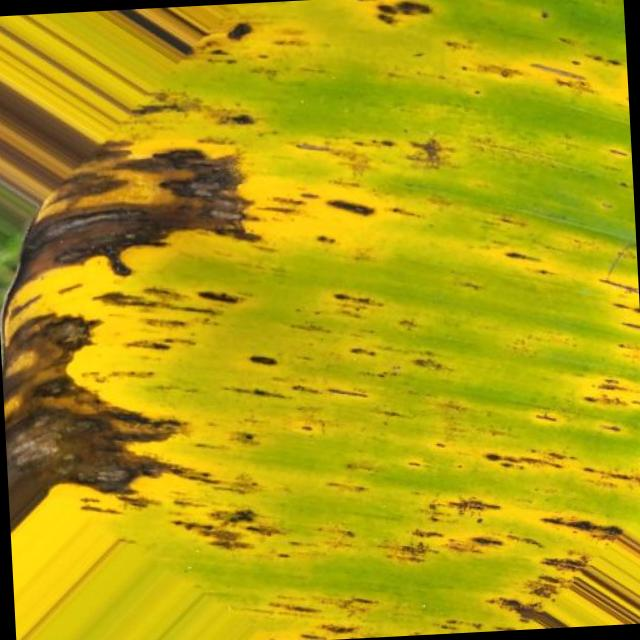Banana_Black_Sigatoka: (307, 0, 630, 638), (0, 50, 290, 549)
